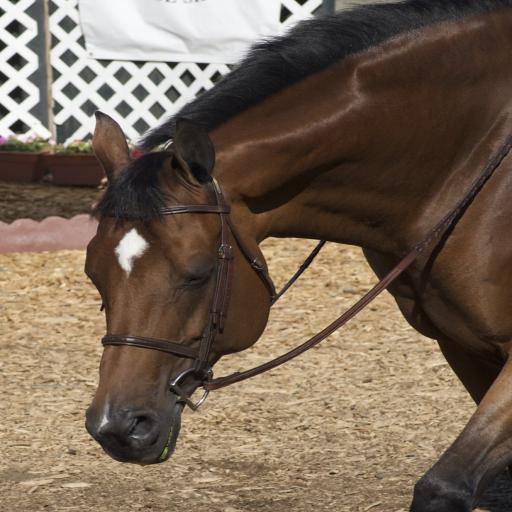horse: (82, 0, 512, 512)
